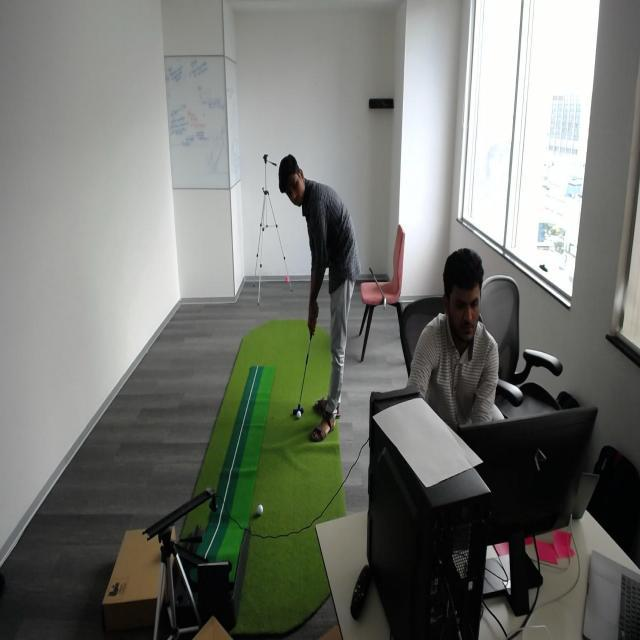GolfBall: (256, 500, 266, 518), (295, 409, 304, 422)
